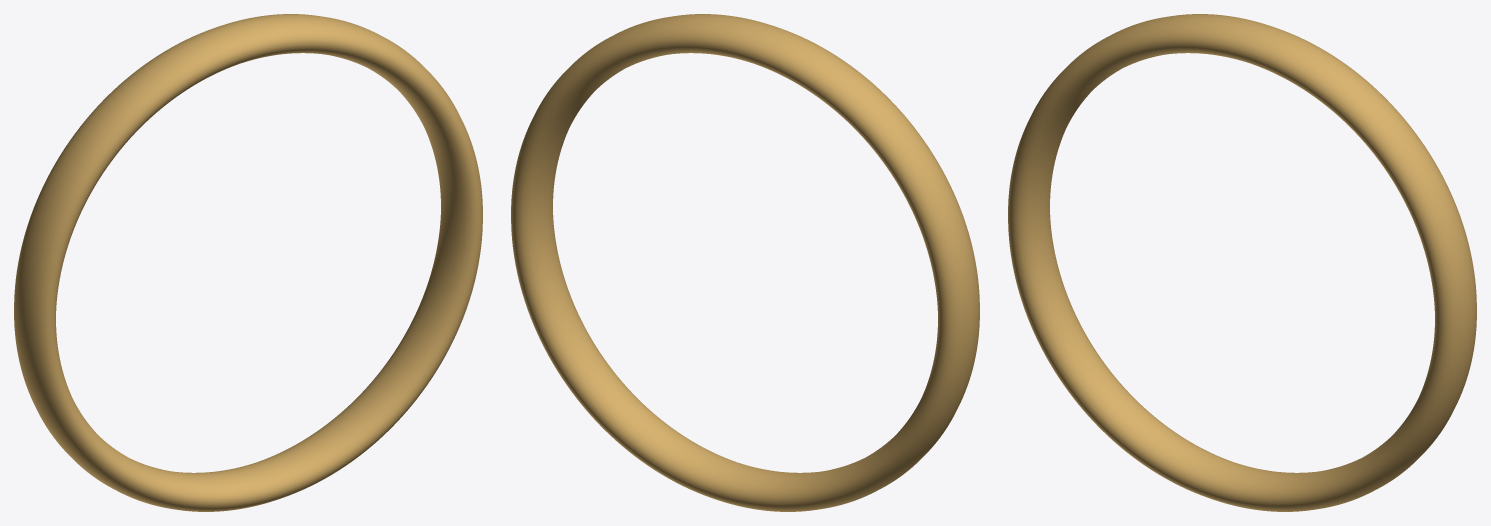
The model's file is band-plain.glb.
3 renders of one model, left to right at view 1: azimuth 30°, elevation 25°; view 2: azimuth 150°, elevation 25°; view 3: azimuth 330°, elevation 25°, orthographic.
Parts seen in each view (by area): view 1: Band; view 2: Band; view 3: Band.
Part boxes in pixels (x1,y1,x2,y2): Band: (14,14,482,511); Band: (511,14,979,511); Band: (1008,14,1476,511).
Bounding box in the file's own units: 19.6 × 19.6 × 2.2.
